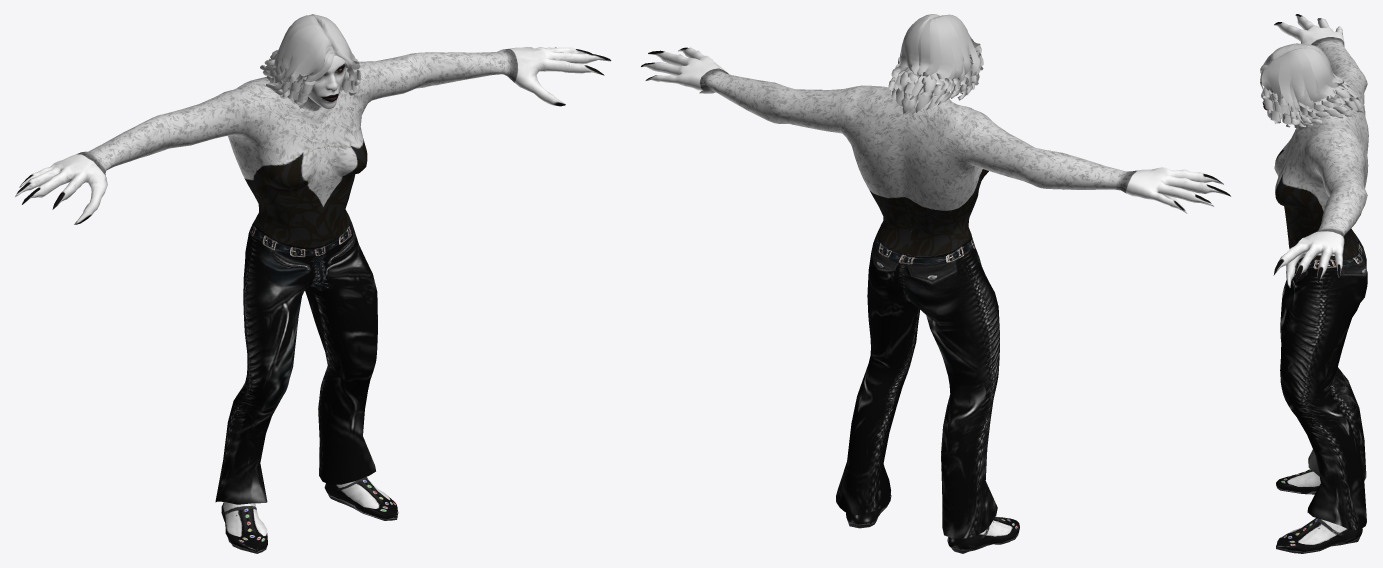
File: Enemy.fbx
3 renders of one model, left to right at view 1: azimuth 30°, elevation 25°; view 2: azimuth 150°, elevation 25°; view 3: azimuth 270°, elevation 25°, orthographic. The views are drawn at different scales.
Visible parts, largest first — view 1: H_DDS_MidRes, l_wig; view 2: H_DDS_MidRes, l_wig; view 3: H_DDS_MidRes, l_wig.
Boxes of the visible parts, x1=… form: H_DDS_MidRes: x1=14, y1=46, x2=611, y2=553; l_wig: x1=260, y1=14, x2=361, y2=108; H_DDS_MidRes: x1=641, y1=47, x2=1230, y2=553; l_wig: x1=888, y1=14, x2=983, y2=114; H_DDS_MidRes: x1=1261, y1=14, x2=1368, y2=553; l_wig: x1=1260, y1=43, x2=1364, y2=127.
Size of the model in its own units: 212 by 174 by 36.4.
